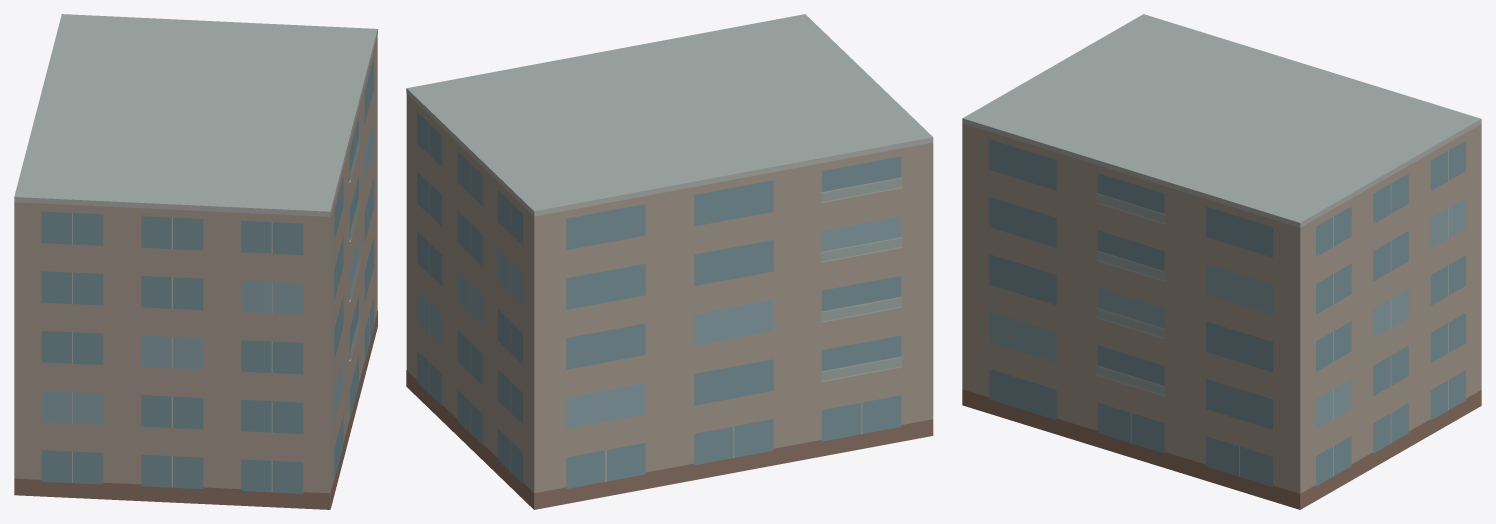
File: survey-upis-32716444.glb
3 views of the same model, side by side, from view 1: azimuth 30°, elevation 25°; view 2: azimuth 150°, elevation 25°; view 3: azimuth 270°, elevation 25° (orthographic). The views are drawn at different scales.
Visible parts, largest first — view 1: survey-upis-32716444.tmp; view 2: survey-upis-32716444.tmp; view 3: survey-upis-32716444.tmp.
Boxes of the visible parts, box(x1,y1,x2,y2) form: survey-upis-32716444.tmp: box(14, 14, 377, 509); survey-upis-32716444.tmp: box(406, 14, 933, 509); survey-upis-32716444.tmp: box(962, 14, 1481, 509).
Size of the model in its own units: 21.55 by 13.8 by 22.63.
